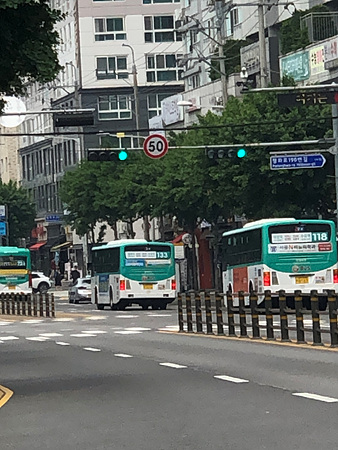bnum: (311, 231, 329, 241)
